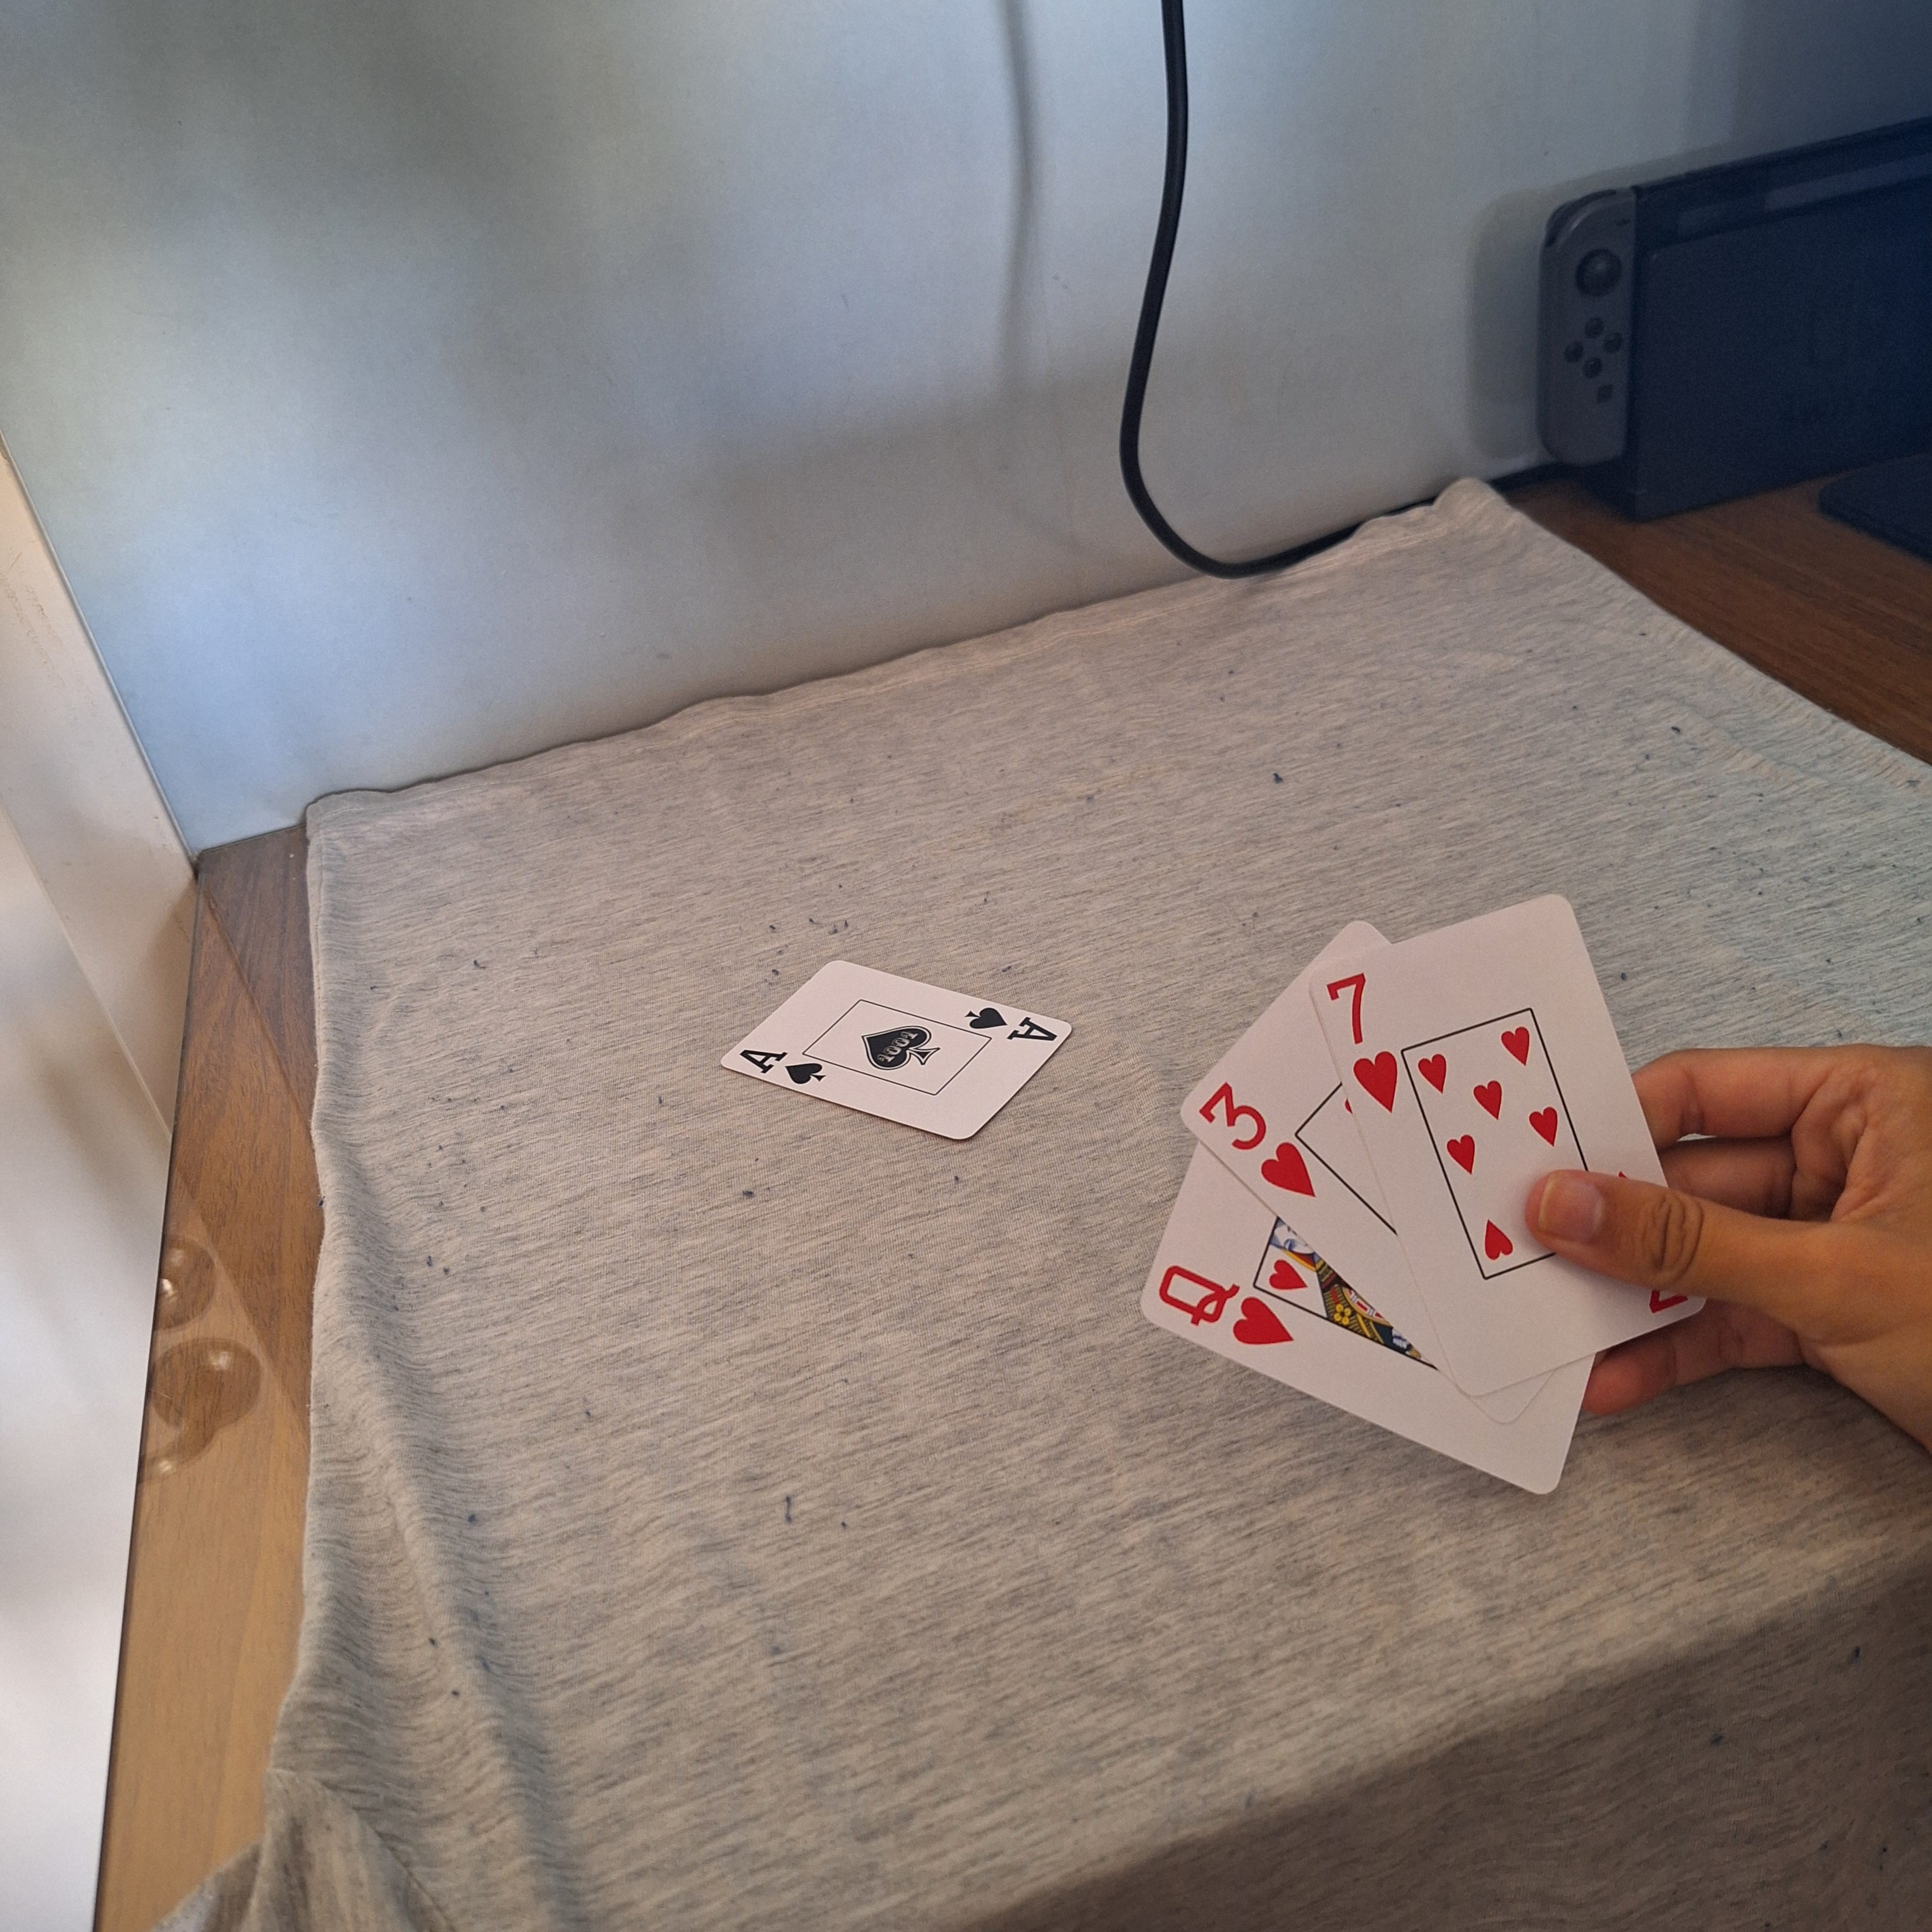3C: (1192, 1079, 1322, 1207)
7C: (1320, 964, 1408, 1118)
AE: (731, 1040, 830, 1097), (959, 1001, 1067, 1047)
QC: (1145, 1263, 1295, 1364)
